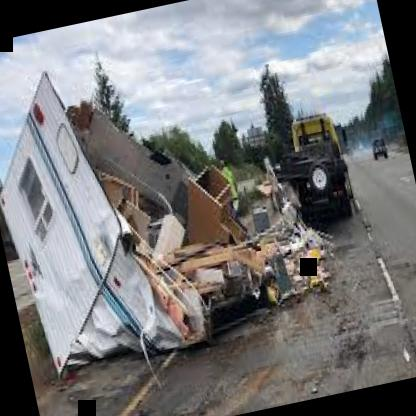accident: (0, 9, 364, 416)
